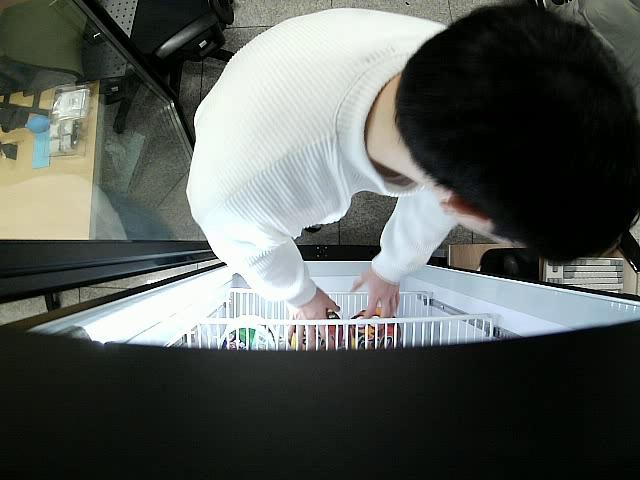00_hand: (282, 287, 343, 351), (354, 266, 401, 317)
05_nuguri_L: (289, 311, 341, 353)
